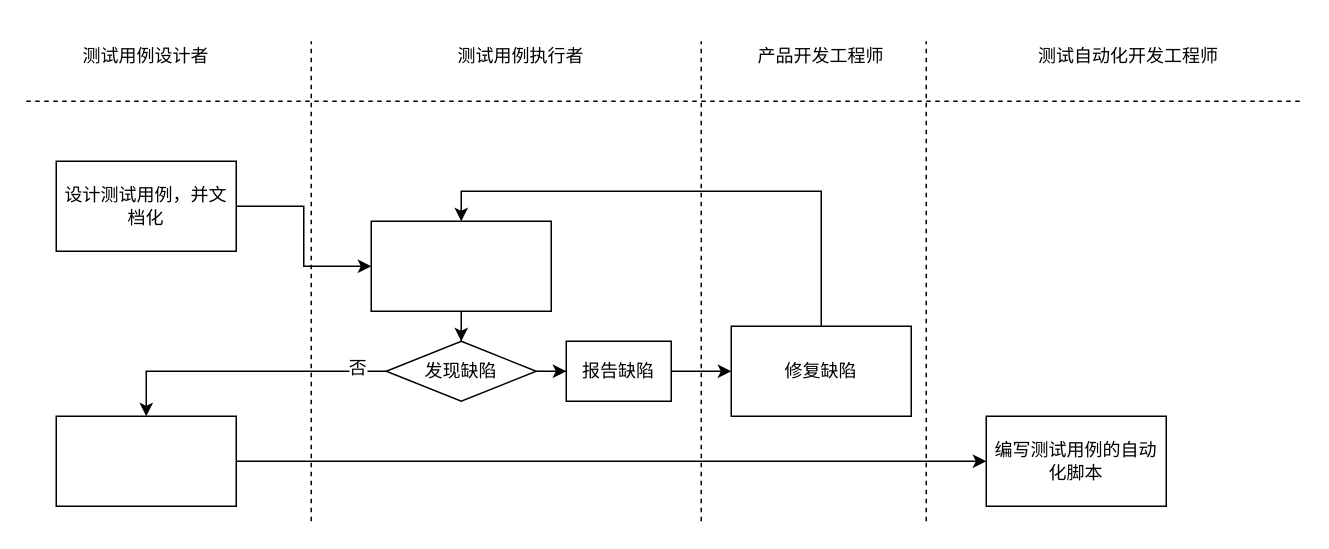
Some shapes in this 1329 by 549 pixel diagram are drawn without their labels. The shapes that lost their labels are listed below. From the top down, each one's centre as x and y in pixels, then its label:
(x=460, y=265): 手工执行测试用例
(x=145, y=460): 挑选出一部分基本测试用例
